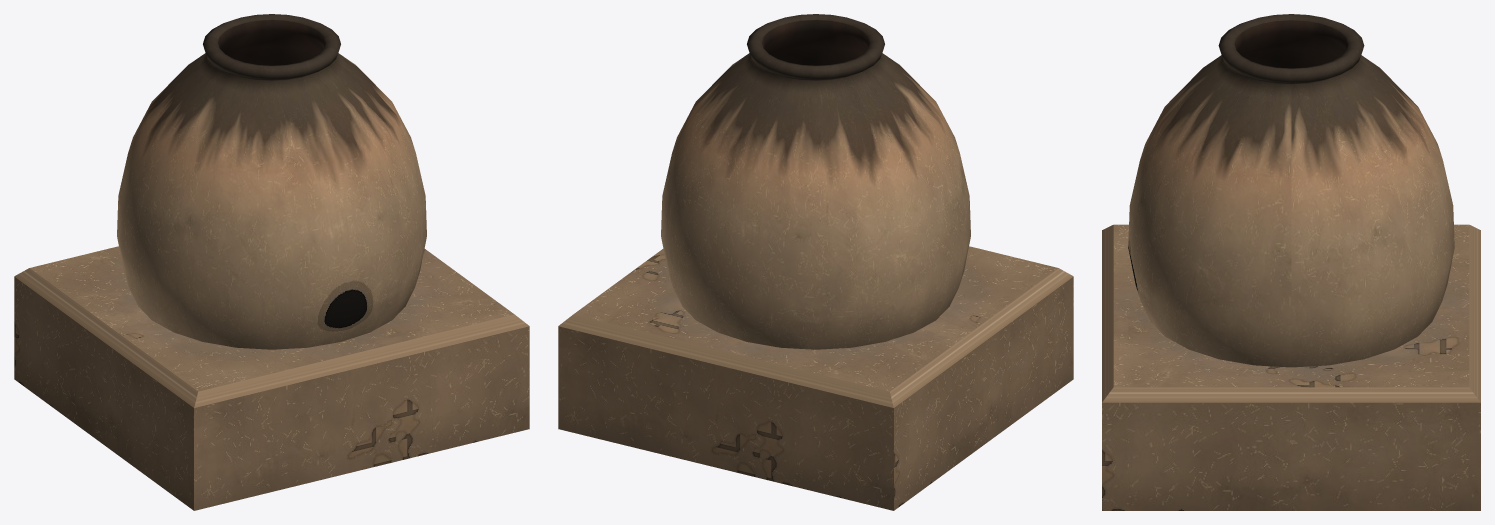
File: tandoor.glb
The picture shows the model from 3 angles, left to right: view 1: azimuth 30°, elevation 25°; view 2: azimuth 150°, elevation 25°; view 3: azimuth 270°, elevation 25°; orthographic projection. The views are drawn at different scales.
Visible parts, largest first — view 1: tandoor; view 2: tandoor; view 3: tandoor.
Boxes of the visible parts, x1,y1,x2,y2 form: tandoor: (14, 14, 529, 510); tandoor: (558, 14, 1073, 510); tandoor: (1102, 14, 1480, 510).
Bounding box in the file's own units: 1.4 × 1.45 × 1.3.
1 material, 1 textured.
